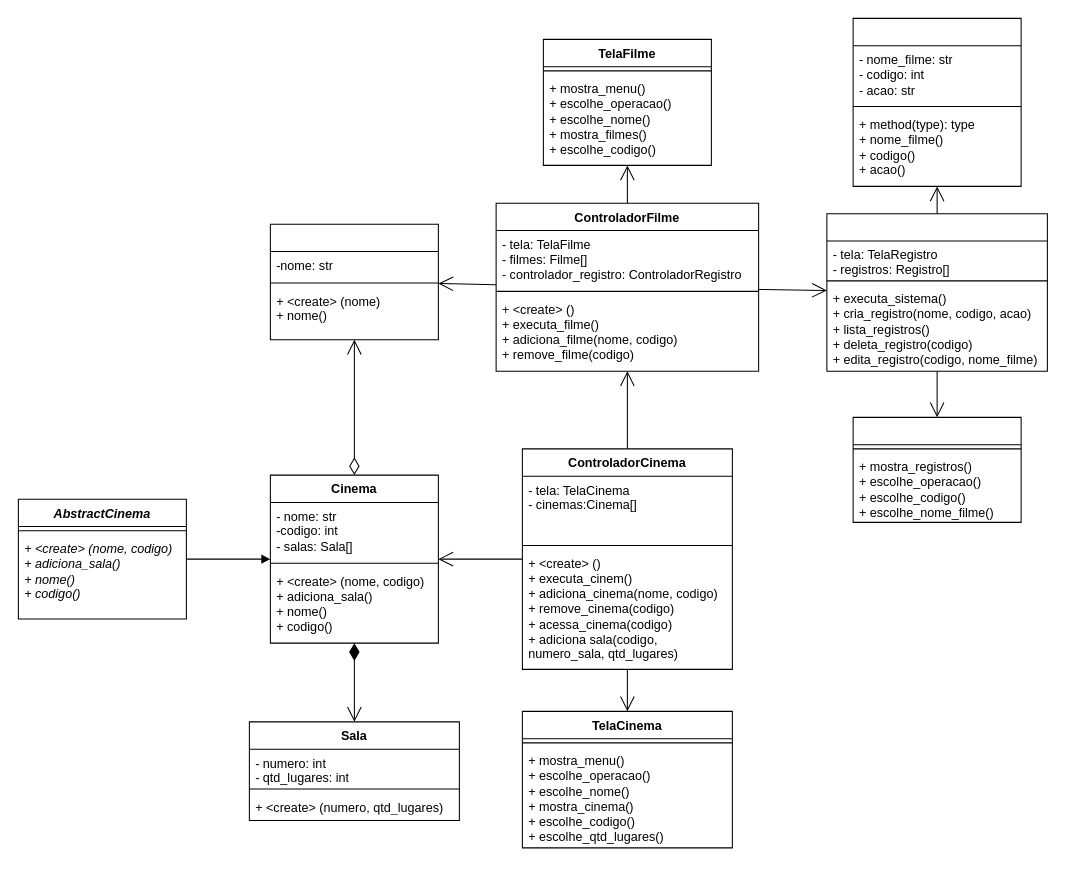
This 1066x869 diagram has some shape labels left out. The shapes that lost their labels are listed below. From the top down, each one's box as (x1, y1, x2, y2) in pixels, then its label:
(852, 17, 1021, 186): Registro
(269, 223, 438, 340): Filme
(826, 213, 1047, 371): ControladorRegistro
(852, 416, 1021, 522): TelaRegistro
